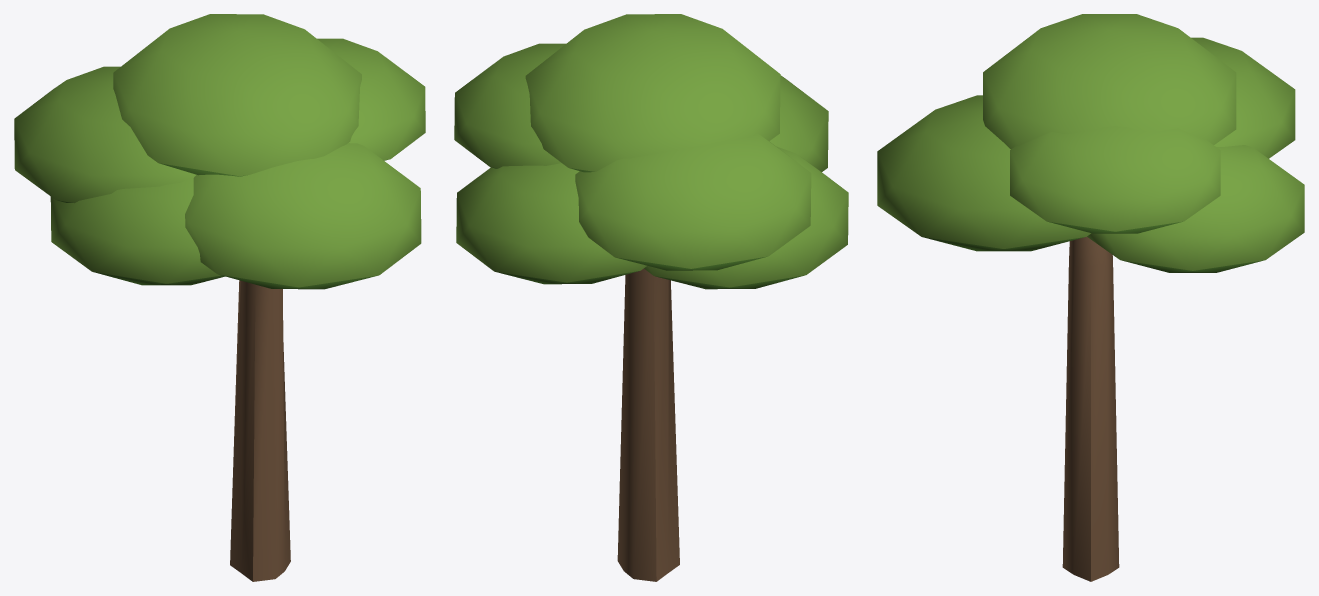
The model's file is tree_round_b_far.glb.
3 views of the same model, side by side, from view 1: azimuth 30°, elevation 25°; view 2: azimuth 150°, elevation 25°; view 3: azimuth 270°, elevation 25° (orthographic). The views are drawn at different scales.
Parts seen in each view (by area): view 1: body; view 2: body; view 3: body.
Boxes of the visible parts, bbox=[...] form: body: bbox=[14, 14, 425, 581]; body: bbox=[454, 14, 848, 581]; body: bbox=[877, 14, 1304, 581].
Bounding box in the file's own units: 2.86 × 4.14 × 3.02.
